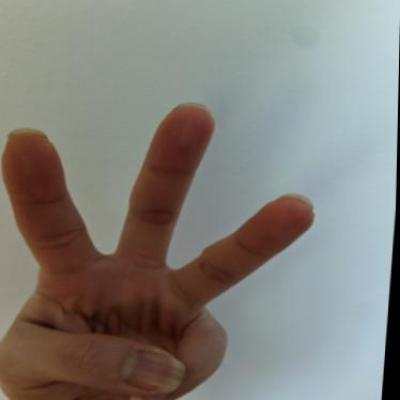hand: (0, 83, 332, 399)
